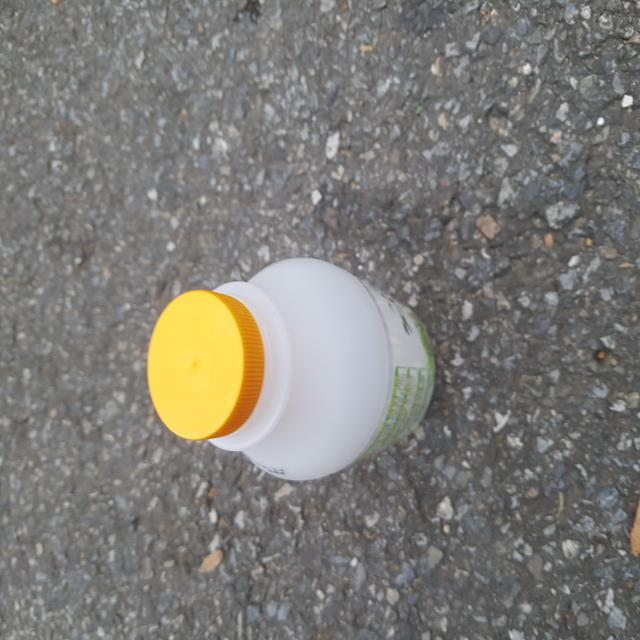bottle: (145, 197, 449, 501)
